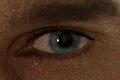eye: (49, 30, 81, 52)
